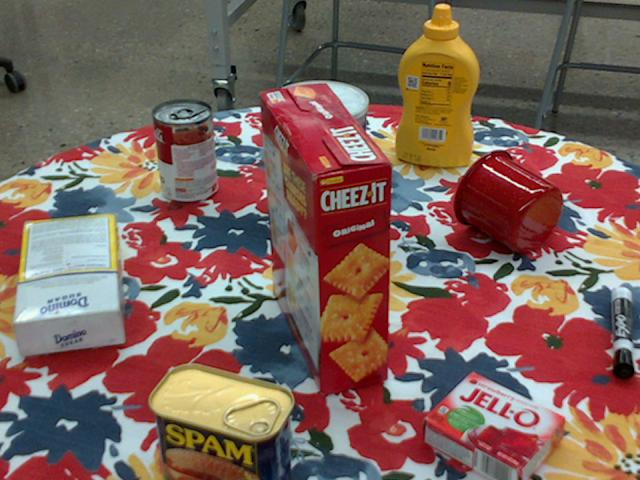cracker_box: (259, 85, 388, 396)
gelatin_box: (423, 371, 566, 479)
large_marker: (612, 284, 635, 375)
master_chef_can: (271, 79, 368, 236)
mug: (453, 149, 563, 252)
mustard_bottle: (395, 5, 478, 167)
potted_meat_can: (144, 365, 291, 479)
sugar_box: (14, 216, 123, 354)
tomato_soup_can: (152, 99, 216, 203)
tuna_fish_can: (271, 117, 339, 169)
